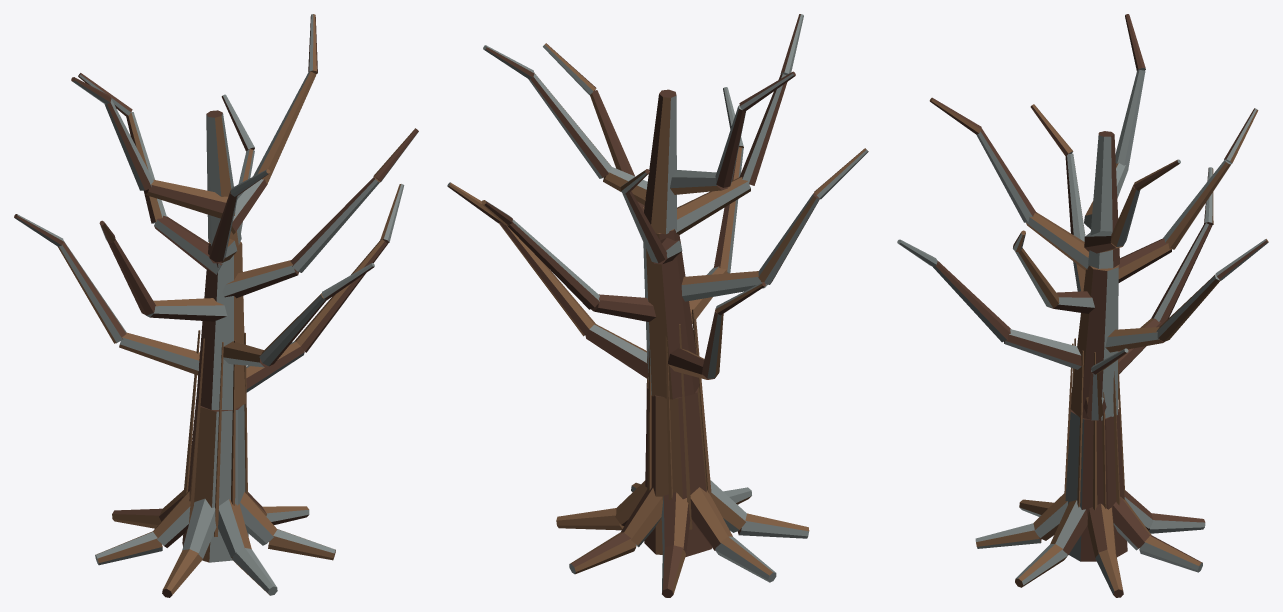
Rendered from dead_tree_a.glb.
3 views of the same model, side by side, from view 1: azimuth 30°, elevation 25°; view 2: azimuth 150°, elevation 25°; view 3: azimuth 270°, elevation 25° (orthographic). The views are drawn at different scales.
Parts seen in each view (by area): view 1: dead_tree_a; view 2: dead_tree_a; view 3: dead_tree_a.
Part boxes in pixels (box(x1,y1,x2,y2)): dead_tree_a: box(14, 14, 418, 597); dead_tree_a: box(447, 14, 868, 597); dead_tree_a: box(897, 14, 1268, 597).
Size of the model in its own units: 2.83 by 3.78 by 2.67.
